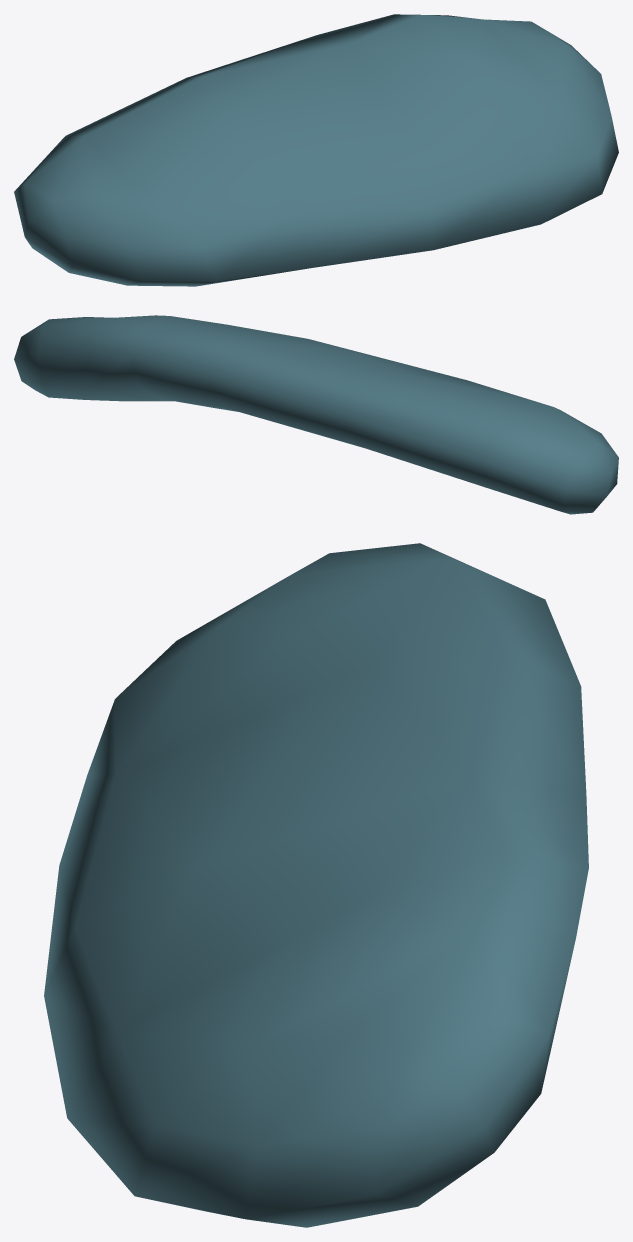
Rendered from Flexor_digitorum_profundus_3rd_finger_distal_phalanx_right.glb.
The picture shows the model from 3 angles, top to bottom: view 1: azimuth 30°, elevation 25°; view 2: azimuth 150°, elevation 25°; view 3: azimuth 270°, elevation 25°; orthographic projection. The views are drawn at different scales.
Visible parts, largest first — view 1: Flexor_digitorum_profundus_on_distal_phalanx_of_3d_finger.r_; view 2: Flexor_digitorum_profundus_on_distal_phalanx_of_3d_finger.r_; view 3: Flexor_digitorum_profundus_on_distal_phalanx_of_3d_finger.r_.
Part boxes in pixels (<box>): Flexor_digitorum_profundus_on_distal_phalanx_of_3d_finger.r_: <box>14,14,618,286</box>; Flexor_digitorum_profundus_on_distal_phalanx_of_3d_finger.r_: <box>14,315,618,514</box>; Flexor_digitorum_profundus_on_distal_phalanx_of_3d_finger.r_: <box>44,543,588,1227</box>.
Bounding box in the file's own units: 0.00374 × 0.000889 × 0.00153.
